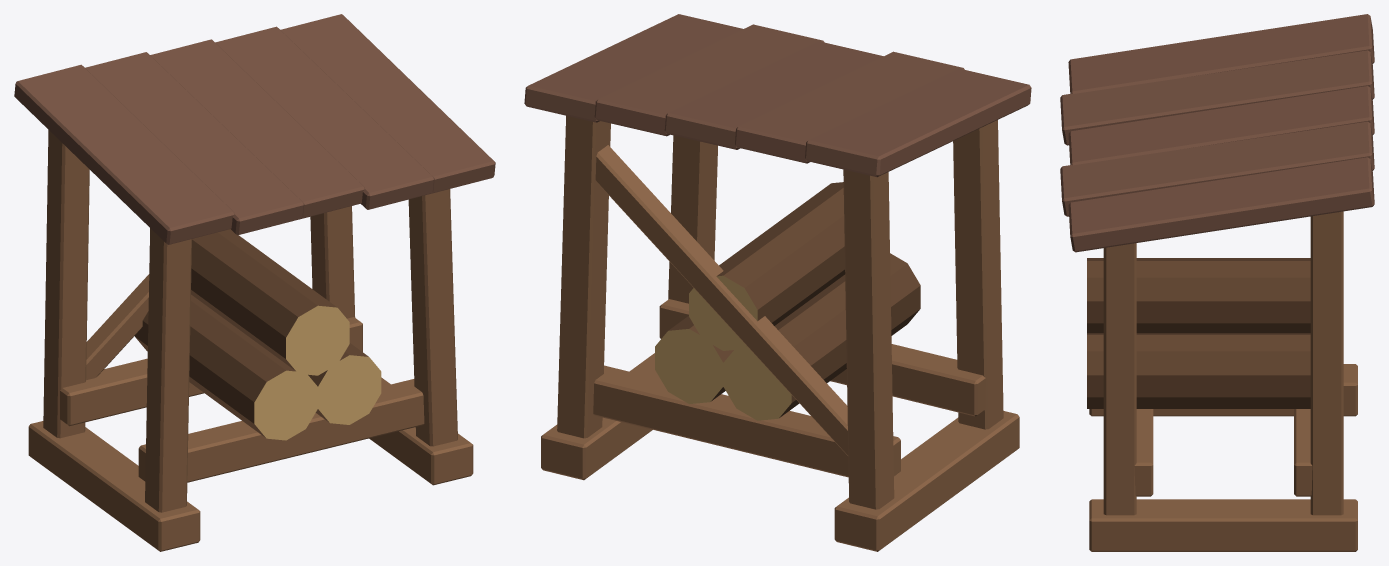
Rendered from recovery-rack-a.glb.
3 views of the same model, side by side, from view 1: azimuth 30°, elevation 25°; view 2: azimuth 150°, elevation 25°; view 3: azimuth 270°, elevation 25° (orthographic). The views are drawn at different scales.
Visible parts, largest first — view 1: roof_board_0, roof_board_3, roof_board_1, log_2, roof_board_4, roof_board_2, post_0_1, post_0_0, log_0, post_1_1, foot_0, bearer_0.43 (+5 smaller); view 2: post_0_0, post_1_0, post_0_1, roof_board_0, log_2, back_brace, bearer_-0.43, foot_0, log_0, roof_board_3, roof_board_1, roof_board_2 (+5 smaller); view 3: roof_board_4, log_1, log_2, foot_1, roof_board_3, roof_board_1, roof_board_0, roof_board_2, post_1_0, post_1_1, foot_0, bearer_0.43 (+1 smaller).
Boxes of the visible parts, box(x1,y1,x2,y2) form: roof_board_0: box(14, 64, 234, 244); roof_board_3: box(215, 26, 434, 209); roof_board_1: box(85, 52, 304, 235); log_2: box(191, 229, 349, 375); roof_board_4: box(280, 14, 495, 193); roof_board_2: box(150, 39, 364, 218); post_0_1: box(145, 228, 191, 512); post_0_0: box(43, 130, 89, 438); log_0: box(134, 294, 317, 440); post_1_1: box(408, 189, 457, 446); foot_0: box(28, 421, 200, 551); bearer_0.43: box(138, 379, 424, 482); post_0_0: box(843, 169, 894, 509); post_1_0: box(557, 115, 610, 438); post_0_1: box(953, 120, 1003, 429); roof_board_0: box(805, 68, 1031, 177); log_2: box(689, 182, 845, 350); back_brace: box(595, 145, 848, 455); bearer_-0.43: box(593, 365, 900, 477); foot_0: box(834, 411, 1019, 551); log_0: box(723, 253, 920, 420); roof_board_3: box(594, 24, 824, 136); roof_board_1: box(735, 51, 964, 163); roof_board_2: box(664, 41, 883, 149); roof_board_4: box(1068, 157, 1374, 252); log_1: box(1087, 333, 1310, 408); log_2: box(1087, 258, 1310, 333); foot_1: box(1089, 499, 1357, 551); roof_board_3: box(1060, 121, 1374, 216); roof_board_1: box(1060, 50, 1374, 145); roof_board_0: box(1068, 14, 1374, 93); roof_board_2: box(1068, 86, 1374, 165); post_1_0: box(1310, 211, 1343, 515); post_1_1: box(1103, 243, 1136, 515); foot_0: box(1089, 364, 1357, 416); bearer_0.43: box(1134, 409, 1153, 496).
Size of the model in its own units: 1.9 by 2.03 by 1.52.
